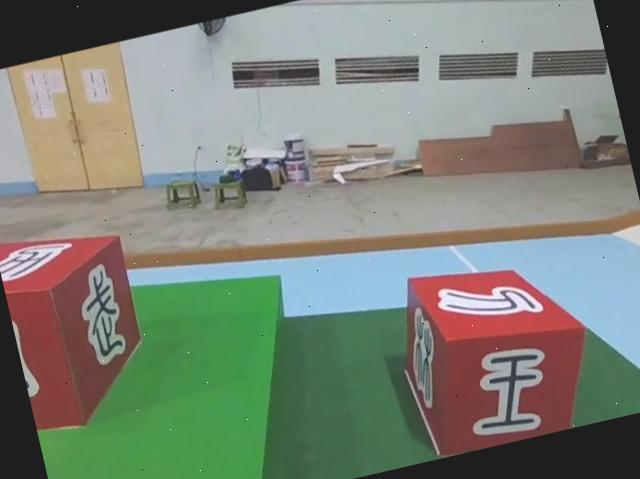R2 Fake: (380, 237, 607, 462), (0, 210, 159, 435)
